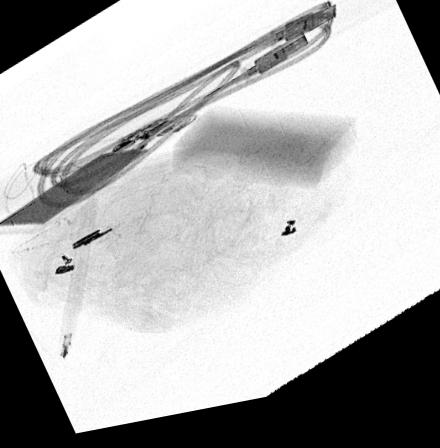Powerbank: (0, 121, 198, 235)
